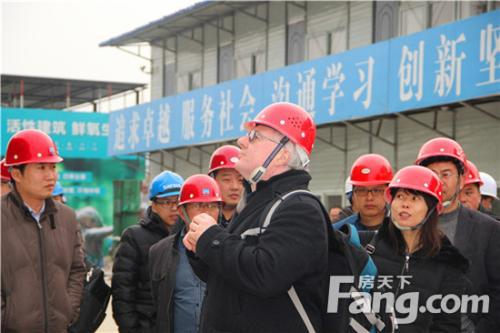helmet: (242, 99, 320, 175), (7, 126, 64, 202), (345, 151, 397, 223), (389, 164, 444, 232), (421, 136, 469, 196), (179, 172, 225, 232), (209, 144, 249, 205), (146, 173, 182, 224), (456, 163, 483, 208), (476, 166, 498, 215)
